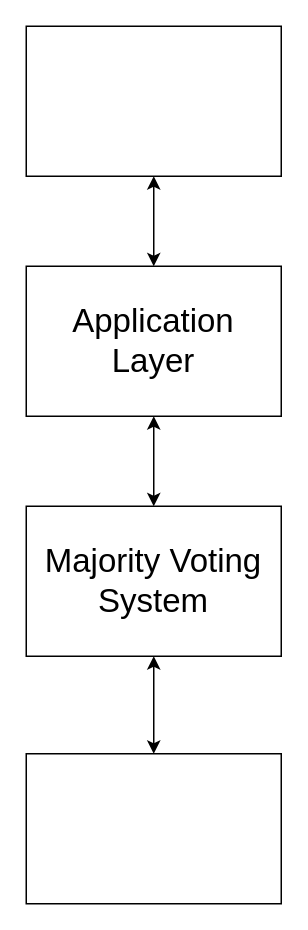
This 308x930 diagram has some shape labels left out. The centre of each missing label's shape, as x and y in pixels:
"Dynamic Routing" goes at point 153,828.
"Network Layer" goes at point 153,100.
